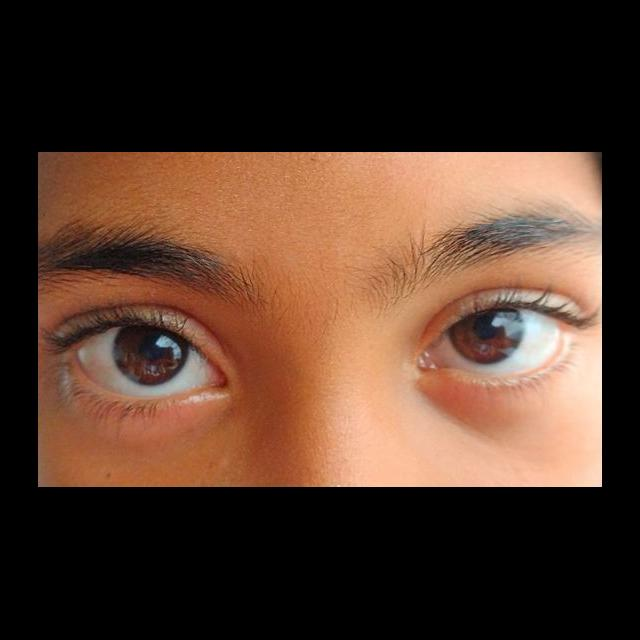eye: (74, 322, 215, 402), (427, 303, 565, 377)
iris: (112, 325, 191, 387), (448, 306, 527, 367)
